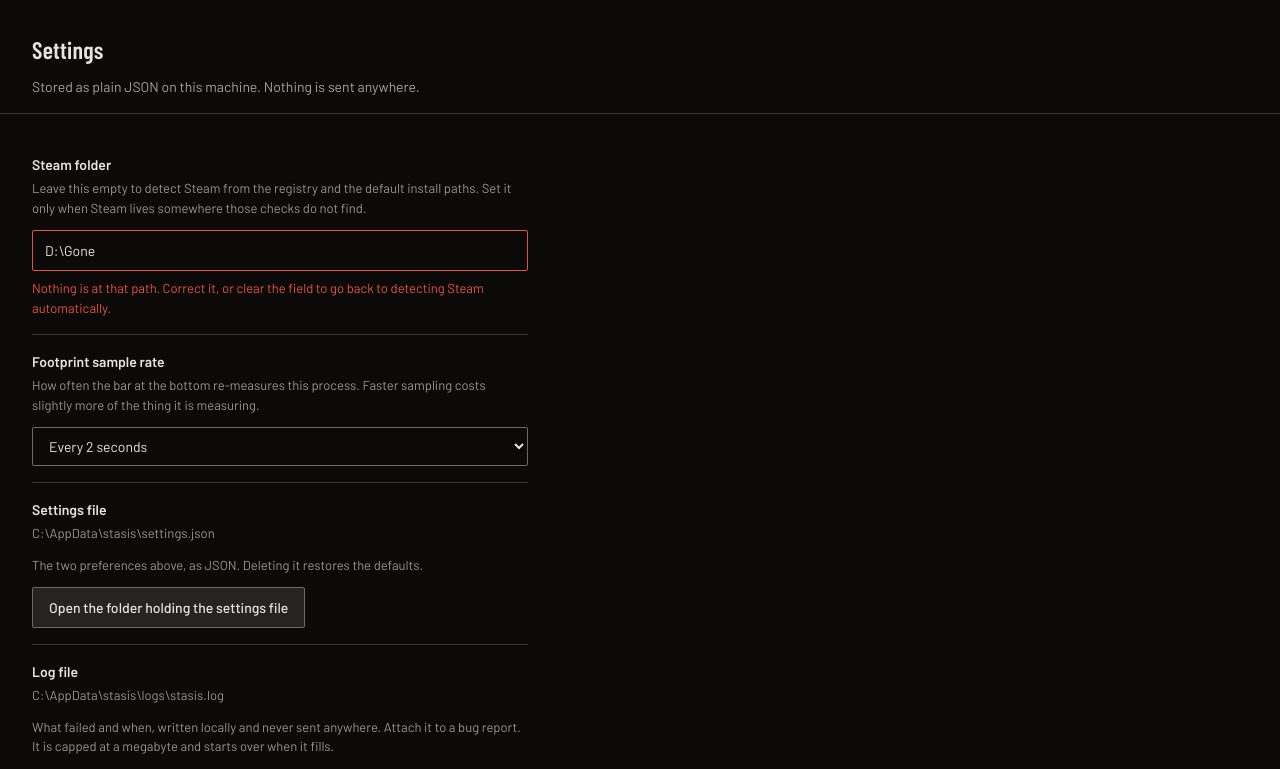
Test: when the check runs › drops the old answer while the field is being edited
Check: the text "Nothing is at that path" is shown, box [32,280,484,316]
Replace the text in the field labelled "Steam folder" with "D:\\Gon" at {"x": 280, "y": 250}, box [32,230,528,271]
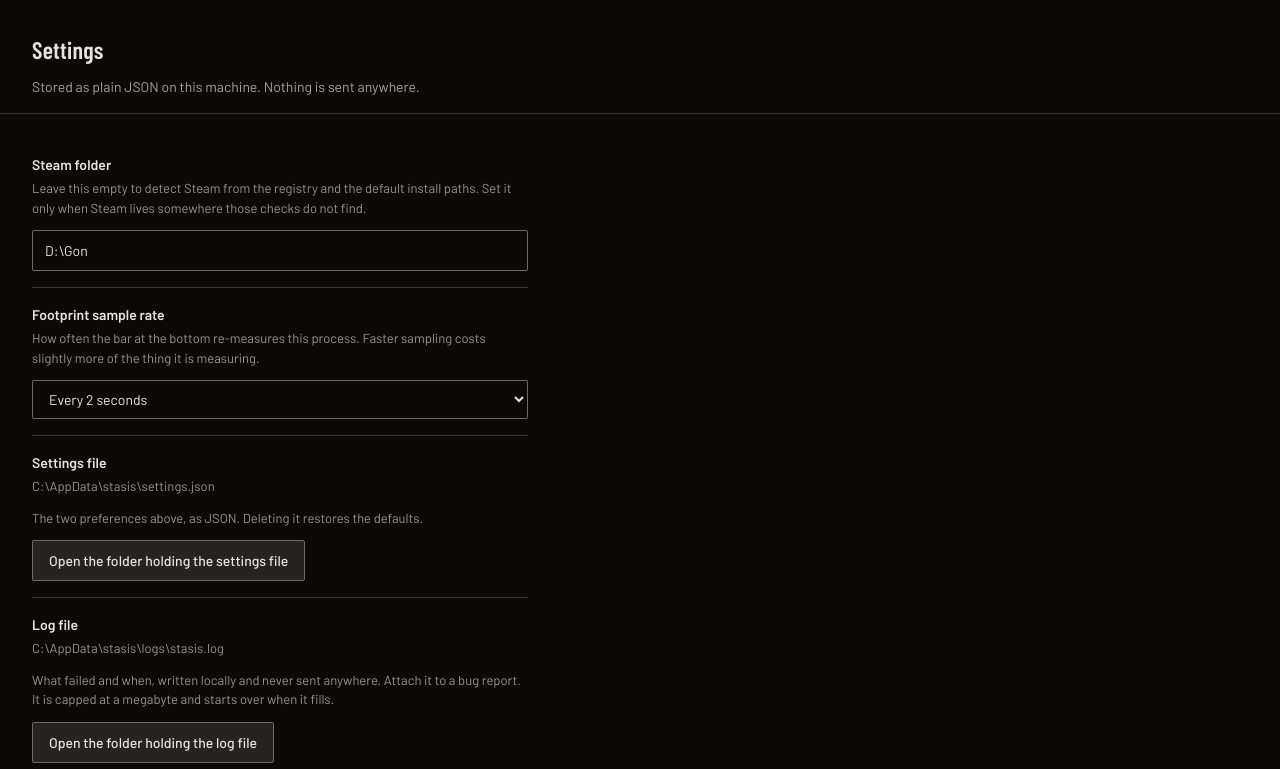
Check: the text "Nothing is at that path" is gone
